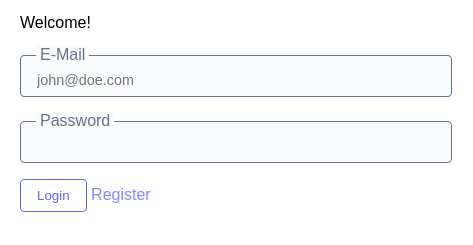
Test: Login › with api › it shows error on authentication error
The image size is (473, 245).
Type "test@test.nl" into the field labelled "E-Mail".
click(236, 76); type("test@test.nl")  # box x1=20 y1=55 x2=452 y2=97
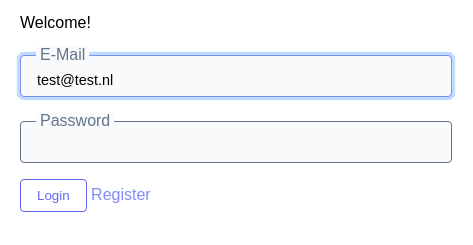
Type "password" into the field labelled "Password".
click(236, 142); type("password")  # box x1=20 y1=121 x2=452 y2=163
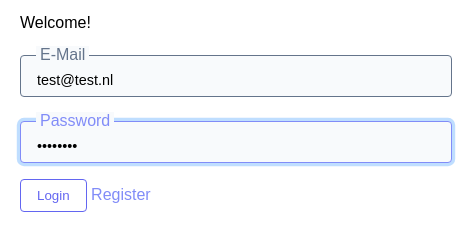
Click the button "Login".
click(53, 196)  # box x1=20 y1=179 x2=87 y2=212
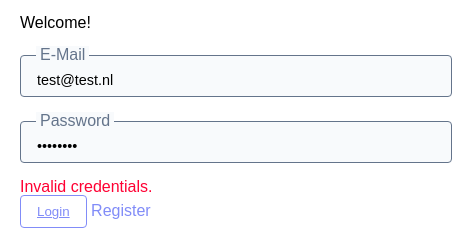
Check: the text "Invalid credentials." is shown, box x1=20 y1=178 x2=152 y2=195
